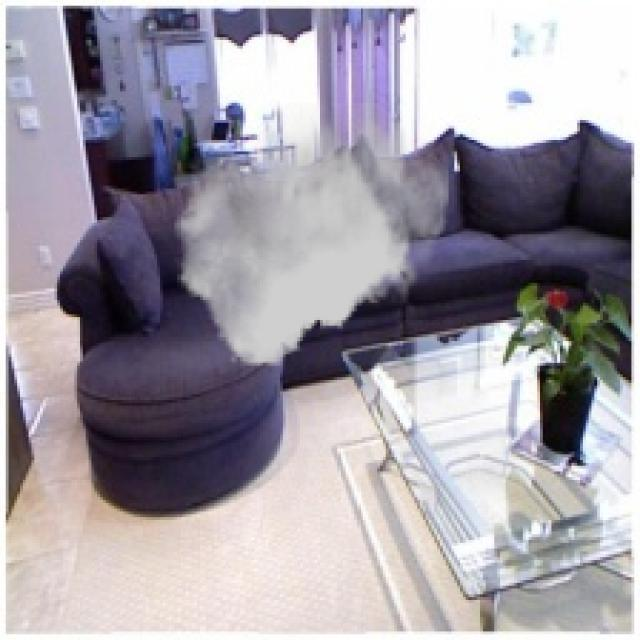Smoke: (174, 103, 449, 366)
